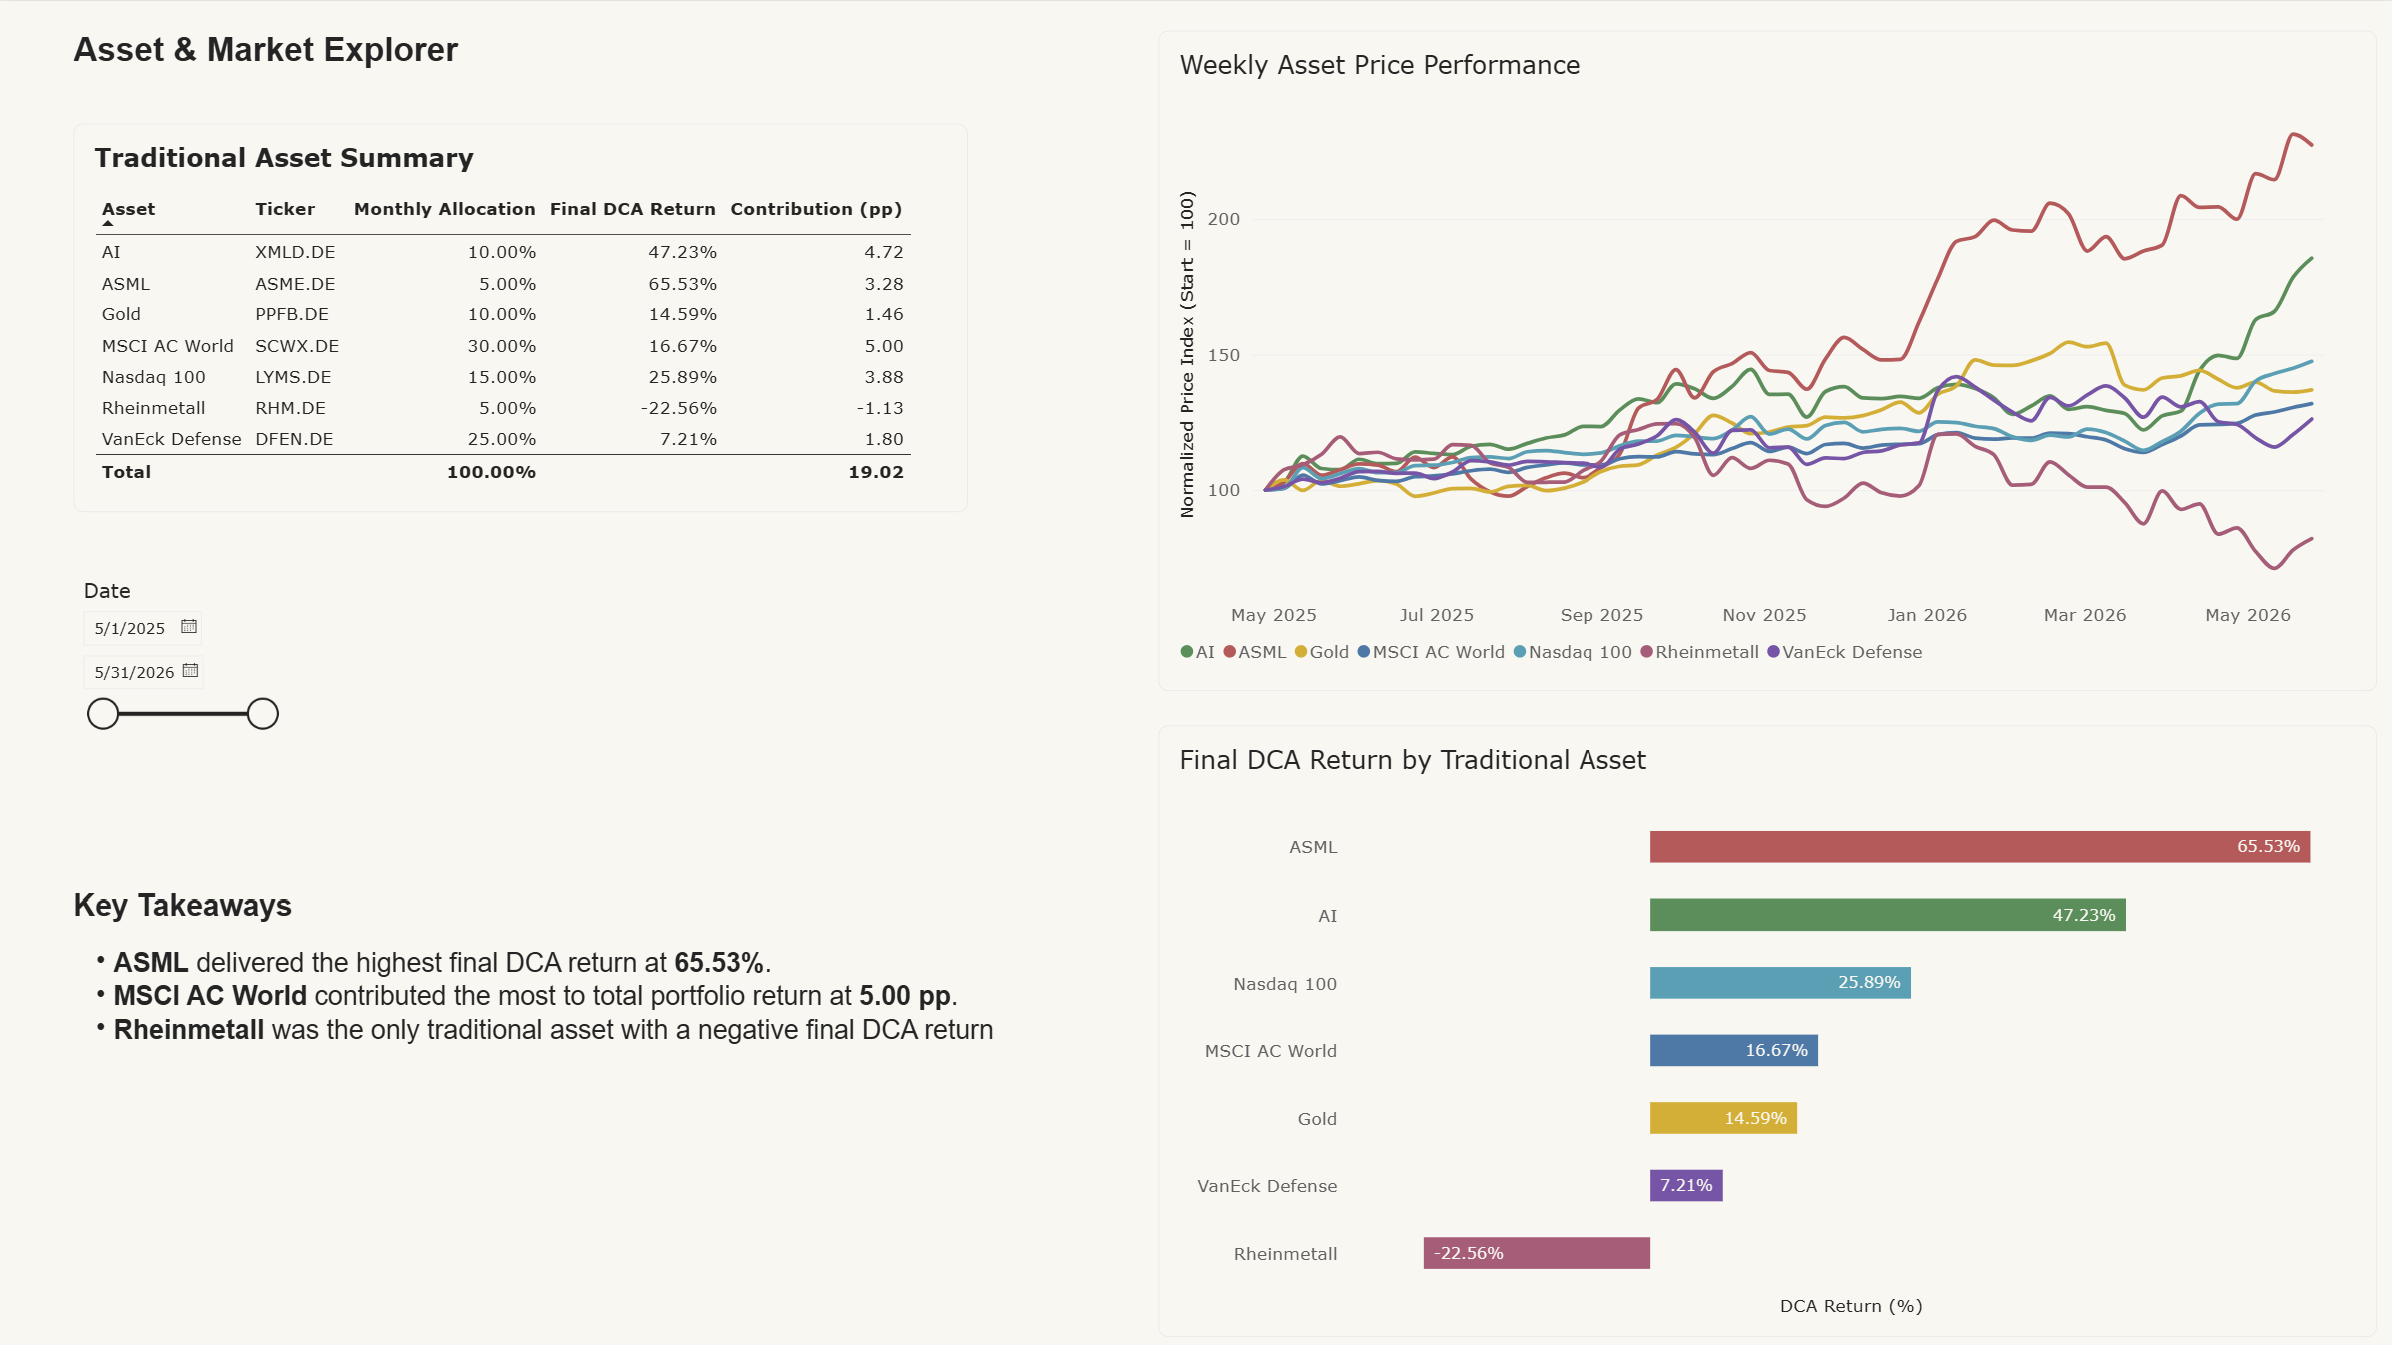

What the dashboard file says about the page in this screenshot:
{"tool":"powerbi","page":{"name":"Asset & Market Explorer","canvas":[1920,1080],"ordinal":1},"visuals":[{"type":"textbox","box":[58.9,23.8,314.9,38],"z":0},{"type":"lineChart","title":"Weekly Asset Price Performance","fields":{"Category":["dim_date.WeekStart"],"Series":["dim_asset.AssetShortName"],"Y":["_Measures.Normalized Price Index"]},"box":[928,24.1,977.4,529.1],"z":1000},{"type":"clusteredBarChart","title":"Final DCA Return by Traditional Asset","fields":{"Category":["dim_asset.AssetShortName"],"Y":["_Measures.Final Traditional Asset Return"]},"box":[928.3,580.6,977.4,489.3],"z":2000},{"type":"slicer","fields":{"Values":["dim_date.Date"]},"box":[58.9,462.8,167.5,154.3],"z":3000},{"type":"tableEx","title":"Traditional Asset Summary","fields":{"Values":["dim_asset.AssetShortName","dim_asset.Ticker","_Measures.Traditional Allocation %","_Measures.Final Traditional Asset Return","_Measures.Contribution to Portfolio Return"]},"box":[58.9,98.2,716.6,311.3],"z":3001},{"type":"textbox","box":[58.9,711,776.9,187.9],"z":3002}]}

Visuals, with their boxes in screenshot pixels (x1, y1, x2, y2), scaled from the page's 1920x1080 canvas onto the 2392x1345 screenshot:
textbox: x1=73, y1=30, x2=466, y2=77
"Weekly Asset Price Performance" lineChart: x1=1156, y1=30, x2=2374, y2=689
"Final DCA Return by Traditional Asset" clusteredBarChart: x1=1157, y1=723, x2=2374, y2=1332
slicer - dim_date.Date: x1=73, y1=576, x2=282, y2=769
"Traditional Asset Summary" tableEx: x1=73, y1=122, x2=966, y2=510
textbox: x1=73, y1=885, x2=1041, y2=1119
